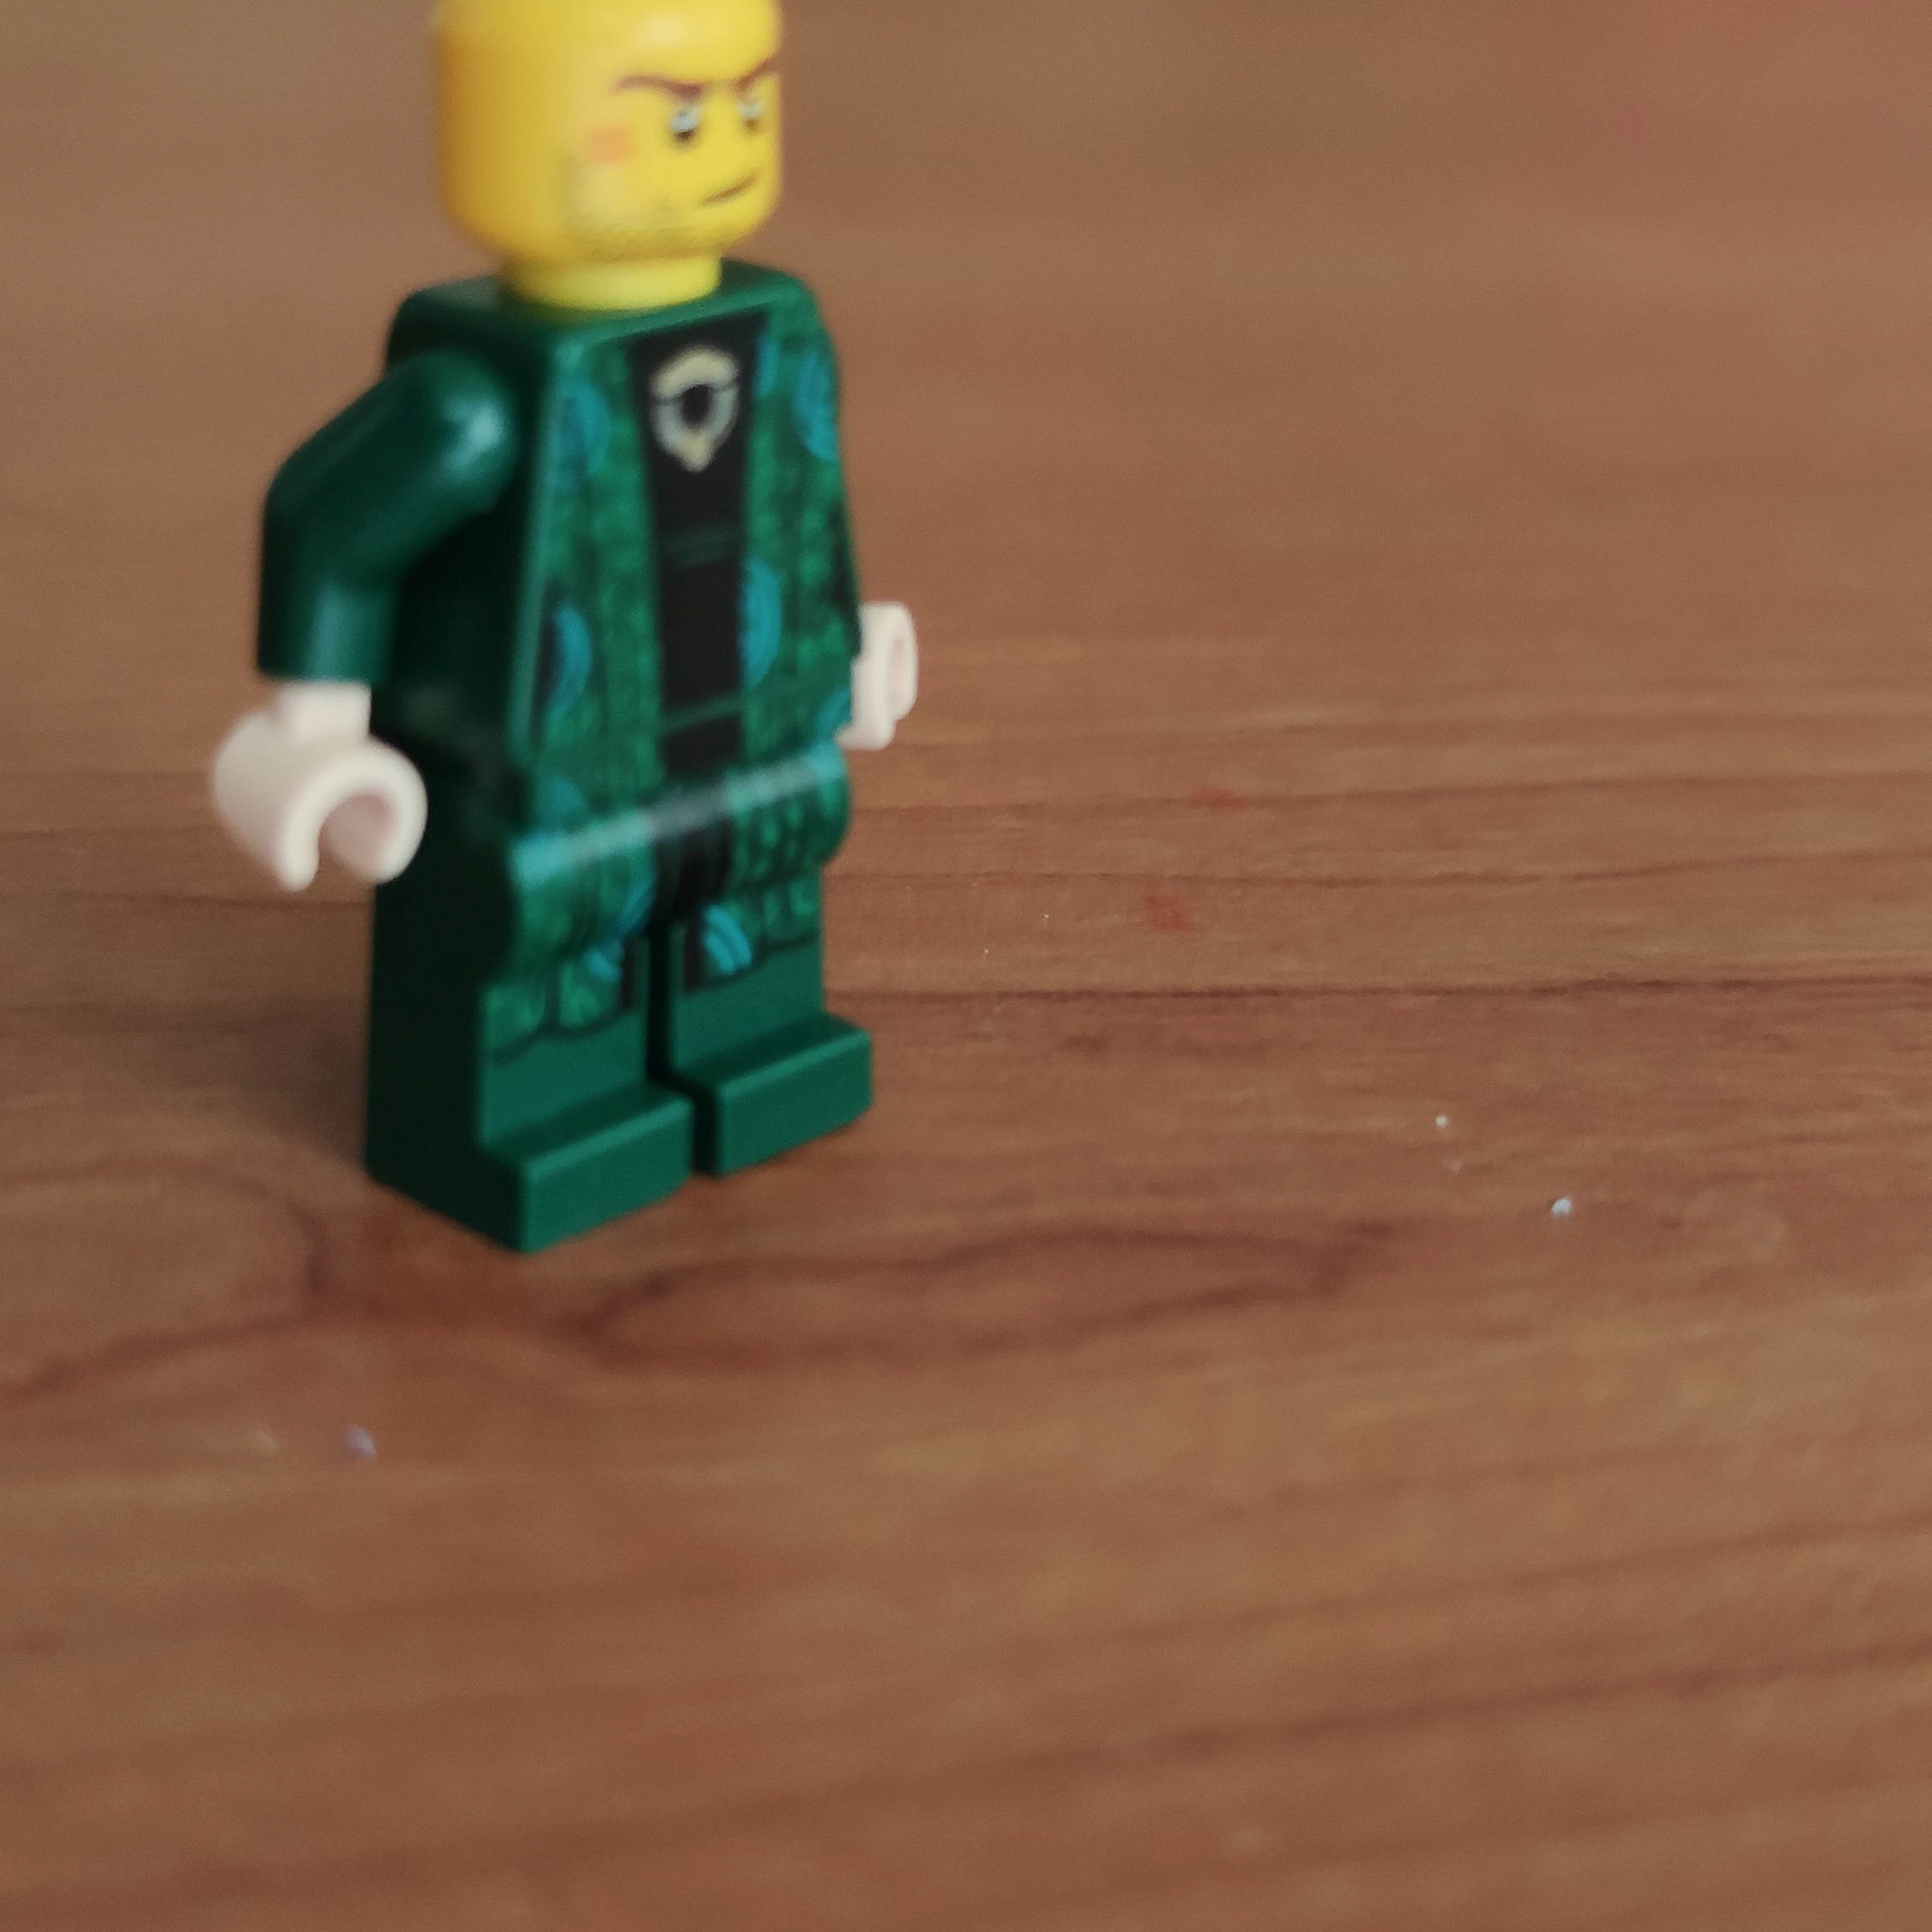lego: (207, 0, 924, 1256)
